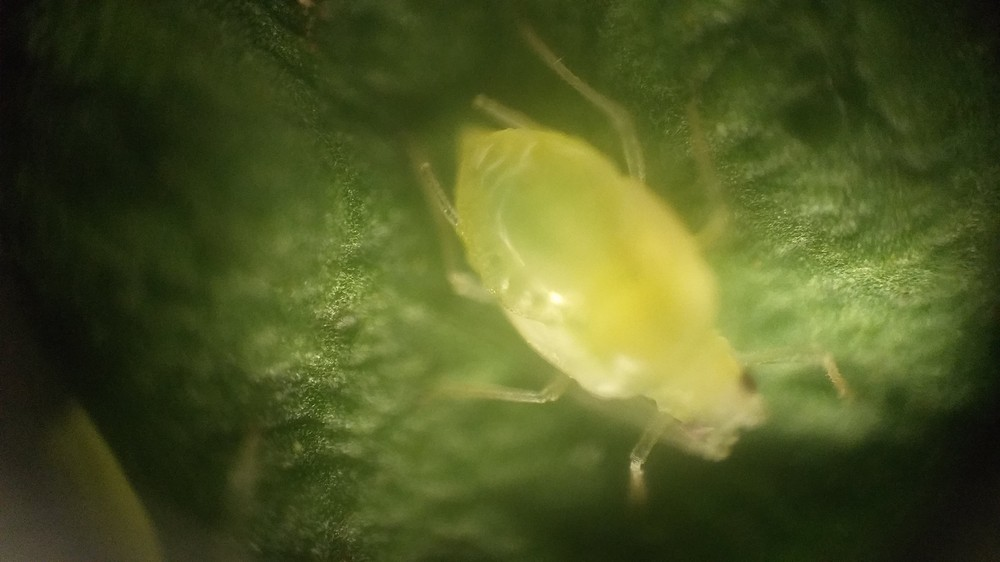Pulgon: (351, 27, 903, 548)
